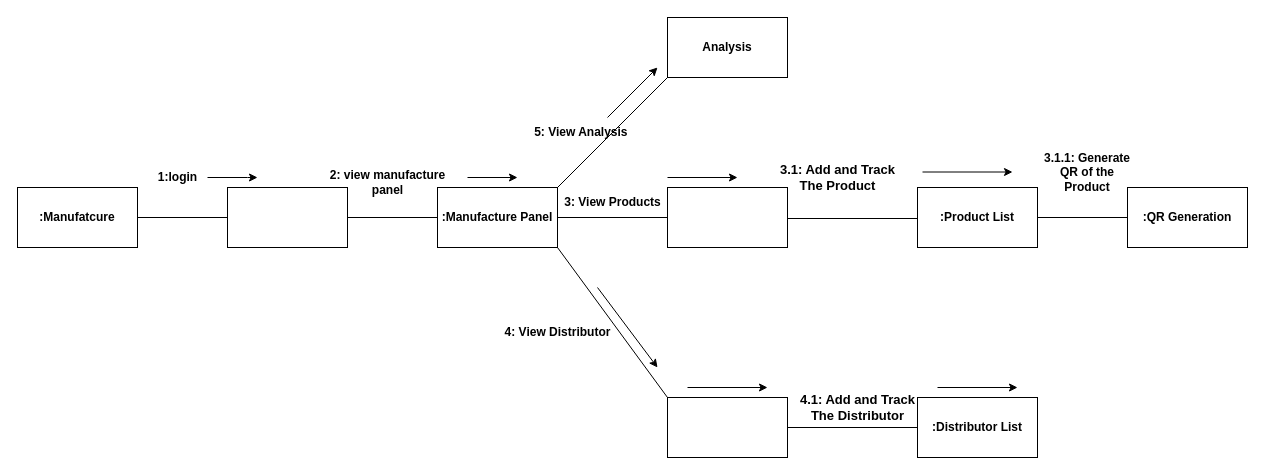
Image size: 1265x475. Some labels were removed from this diagram. The box of each missing label's shape, as (x1, y1, x2, y2) in pixels:
:Connect to metamask: (226, 186, 348, 248)
:Distributor: (666, 396, 788, 458)
:Products: (666, 186, 788, 248)
